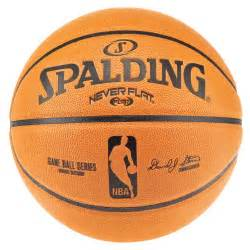basketball: (8, 7, 244, 243)
